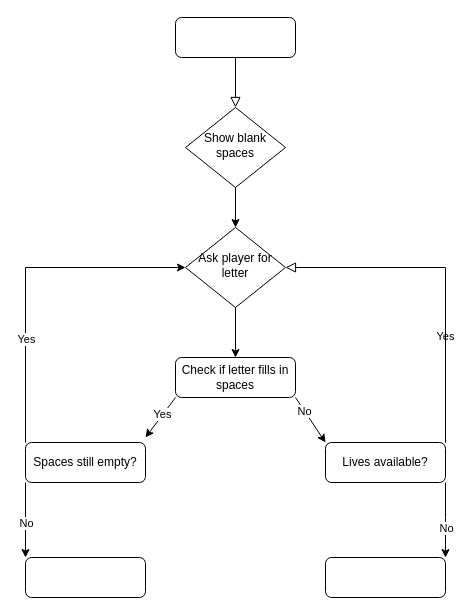
This 473x615 diagram has some shape labels left out. The shapes that lost their labels are listed below. From the top down, each one's centre as x and y in pixels, then its label:
(x=235, y=37): Random select word from list
(x=85, y=577): You Won
(x=385, y=577): You Lost
